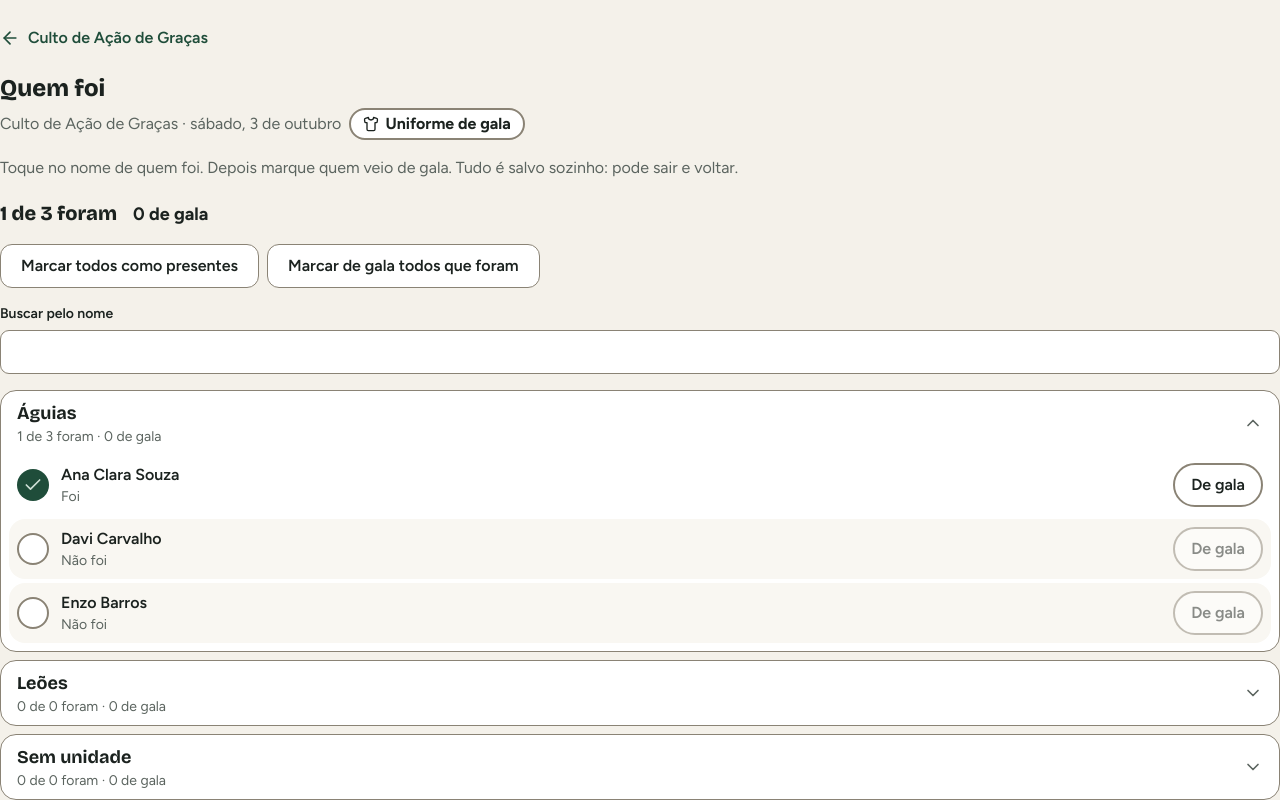
Test: lista "Quem foi" no celular › "Marcar de gala" não toca em quem não foi
expect the text "Ana Clara Souza" is shown: met, box [61, 463, 179, 487]
Click the button "Marcar de gala todos que foram".
click(403, 266)  # box [267, 244, 540, 288]
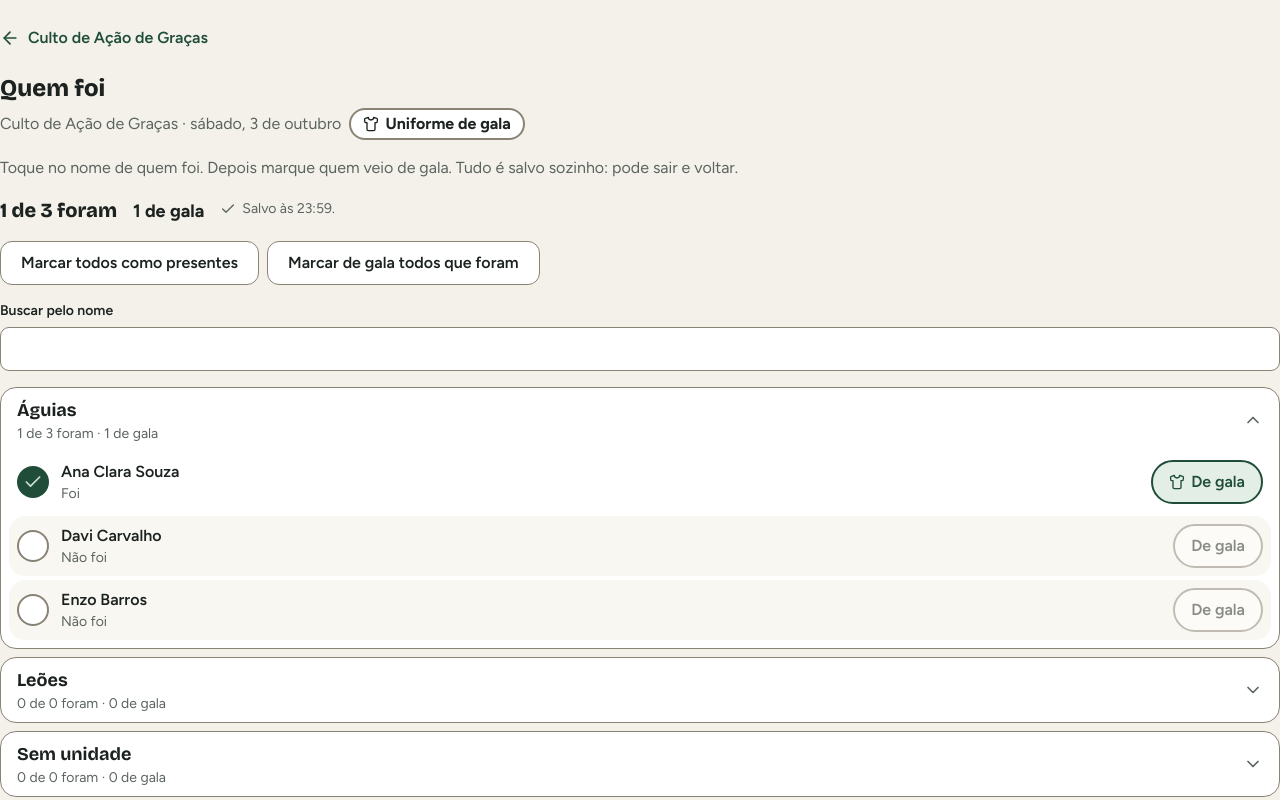
expect the text "1 de gala" is shown: met, box [133, 197, 204, 225]
